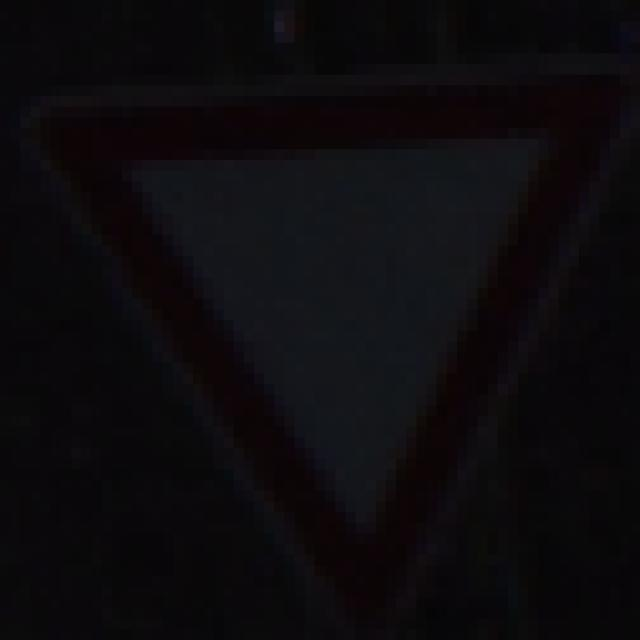Give Way: (62, 65, 590, 588)
